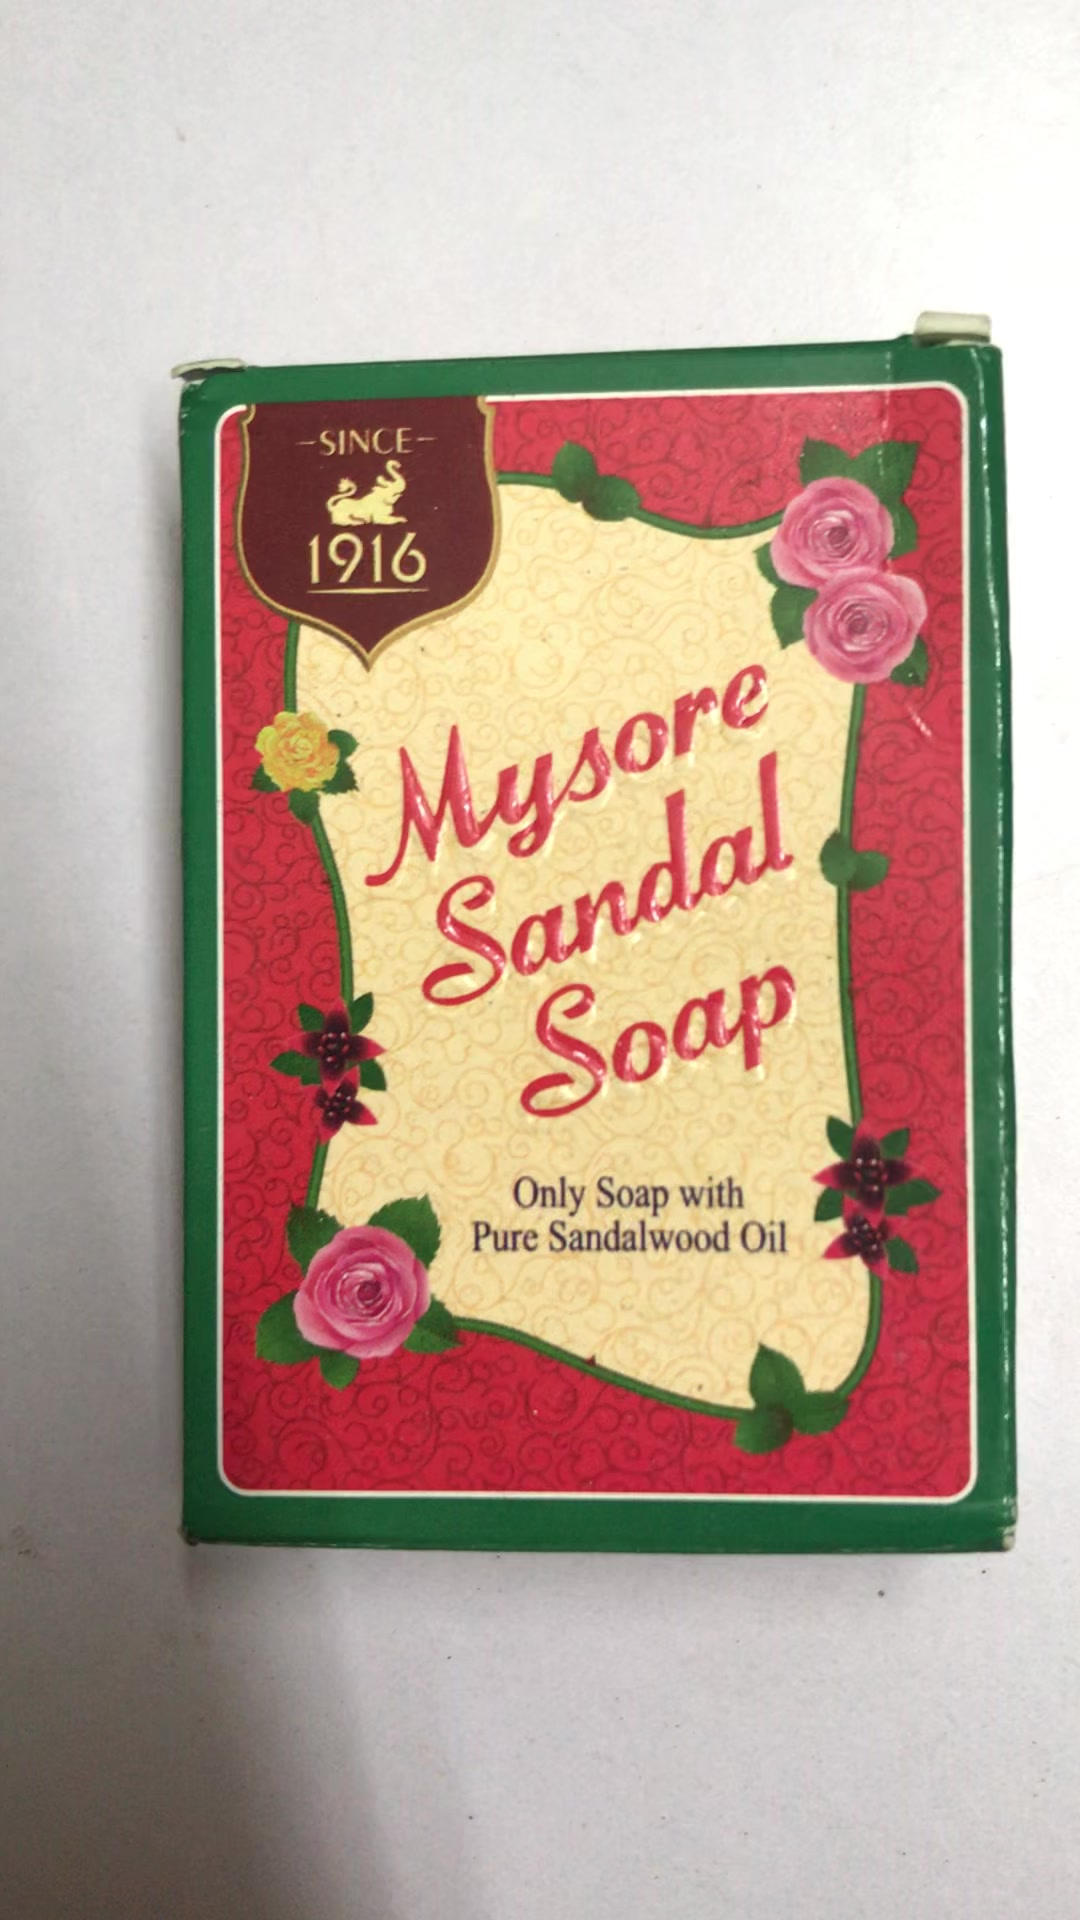mysore sandal soap: (178, 352, 1021, 1549)
